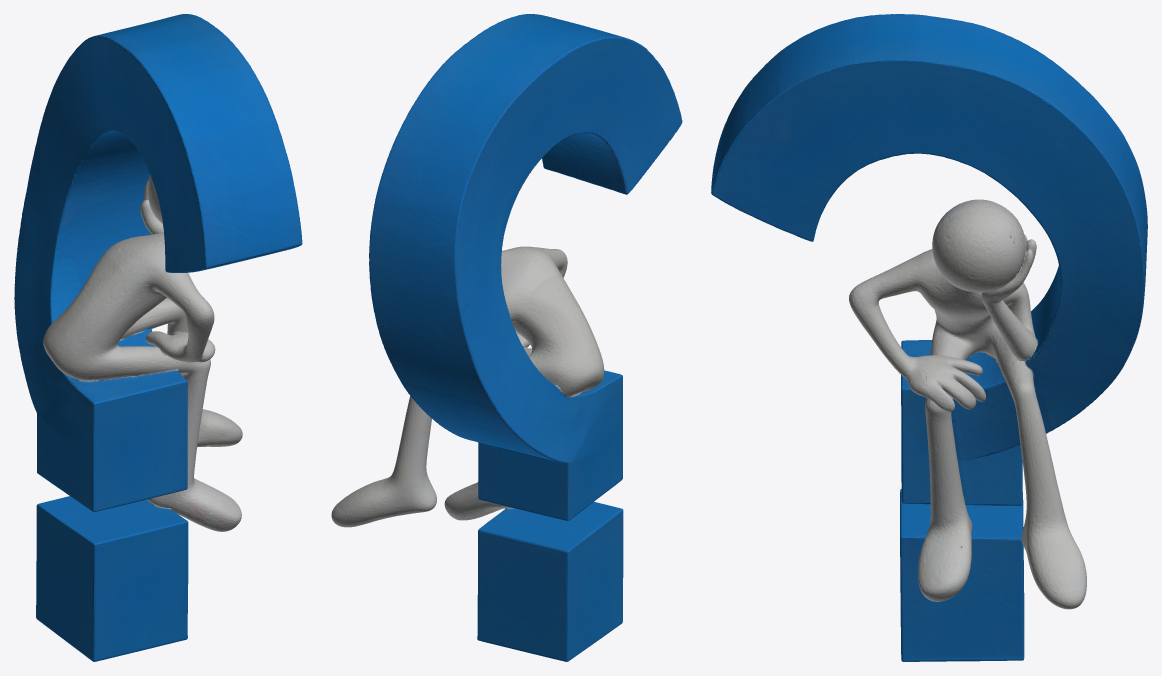
File: questionmark3dmodel1.glb
3 renders of one model, left to right at view 1: azimuth 30°, elevation 25°; view 2: azimuth 150°, elevation 25°; view 3: azimuth 270°, elevation 25°, orthographic. The views are drawn at different scales.
Visible parts, largest first — view 1: tripo_node_3c7c235f-1124-4972-a5dd-6b65e3dee33b; view 2: tripo_node_3c7c235f-1124-4972-a5dd-6b65e3dee33b; view 3: tripo_node_3c7c235f-1124-4972-a5dd-6b65e3dee33b.
Part boxes in pixels (x1,y1,x2,y2): tripo_node_3c7c235f-1124-4972-a5dd-6b65e3dee33b: (14,14,302,661); tripo_node_3c7c235f-1124-4972-a5dd-6b65e3dee33b: (331,14,682,661); tripo_node_3c7c235f-1124-4972-a5dd-6b65e3dee33b: (711,14,1147,661).
Size of the model in its own units: 0.4147 by 1 by 0.634.
1 material, 1 textured.
